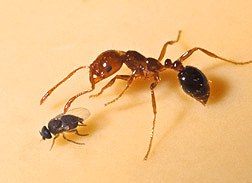phorid fly: (35, 106, 93, 152)
